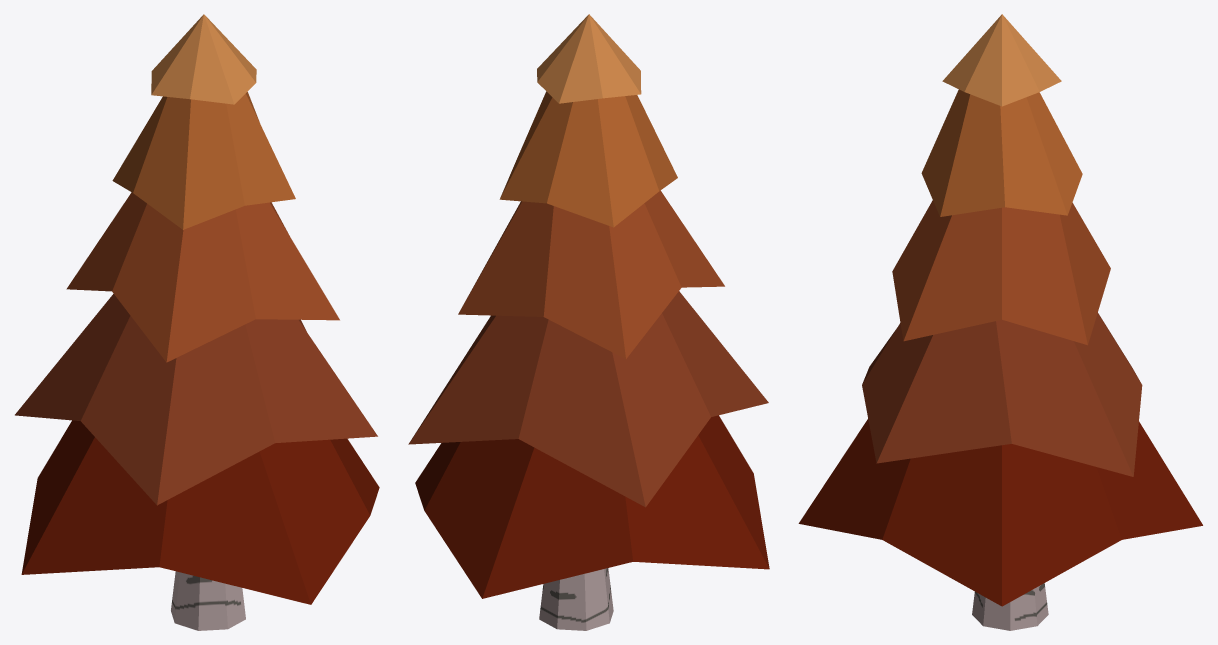
Rendered from Pino_fall.obj.
The picture shows the model from 3 angles, left to right: view 1: azimuth 30°, elevation 25°; view 2: azimuth 150°, elevation 25°; view 3: azimuth 270°, elevation 25°; orthographic projection.
Parts seen in each view (by area): view 1: Traa; view 2: Traa; view 3: Traa.
Part boxes in pixels (<box>): Traa: <box>15,14,379,630</box>; Traa: <box>408,14,769,630</box>; Traa: <box>798,14,1202,630</box>.
Bounding box in the file's own units: 5.07 × 8.2 × 5.05.
